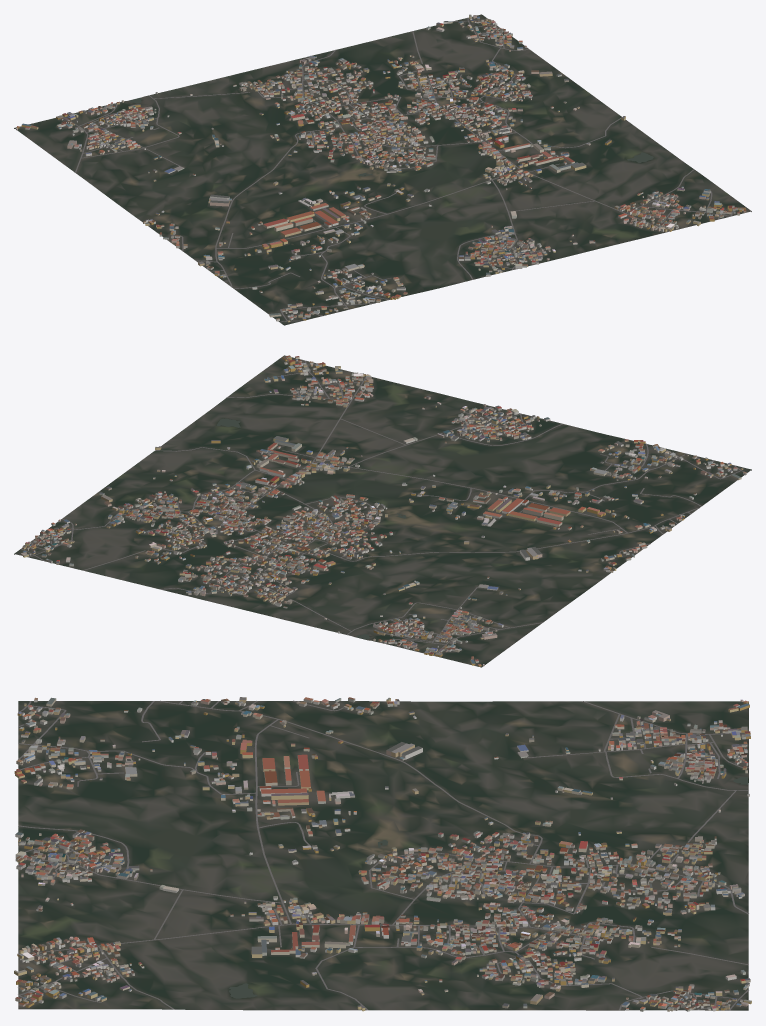
3 renders of one model, top to bottom at view 1: azimuth 30°, elevation 25°; view 2: azimuth 150°, elevation 25°; view 3: azimuth 270°, elevation 25°, orthographic. The views are drawn at different scales.
Visible parts, largest first — view 1: ground, buildings, roads; view 2: ground, buildings, roads; view 3: ground, buildings, roads.
Boxes of the visible parts, x1=… form: ground: x1=14, y1=14, x2=751, y2=325; buildings: x1=16, y1=14, x2=746, y2=322; roads: x1=71, y1=17, x2=733, y2=322; ground: x1=14, y1=355, x2=751, y2=667; buildings: x1=20, y1=355, x2=746, y2=666; roads: x1=21, y1=360, x2=747, y2=655; ground: x1=18, y1=701, x2=748, y2=1010; buildings: x1=14, y1=697, x2=751, y2=1011; roads: x1=18, y1=700, x2=748, y2=1010.
Bounding box in the file's own units: 1413 × 14.89 × 1416.
